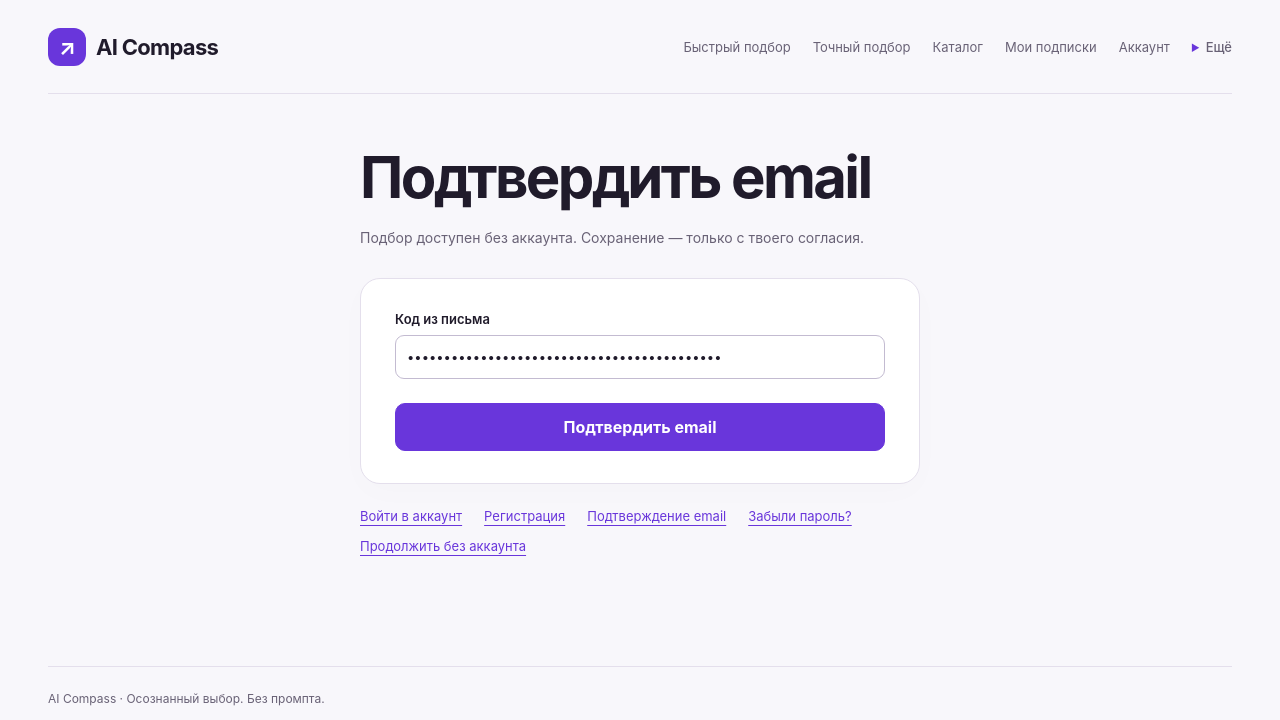
Scenario: verification token is removed from URL and never rendered as ordinary text
What coordinates should you click on to do the following:
click the button "Подтвердить email"
I would click on:
 (640, 427)
Its box is 395,403 -> 885,451.
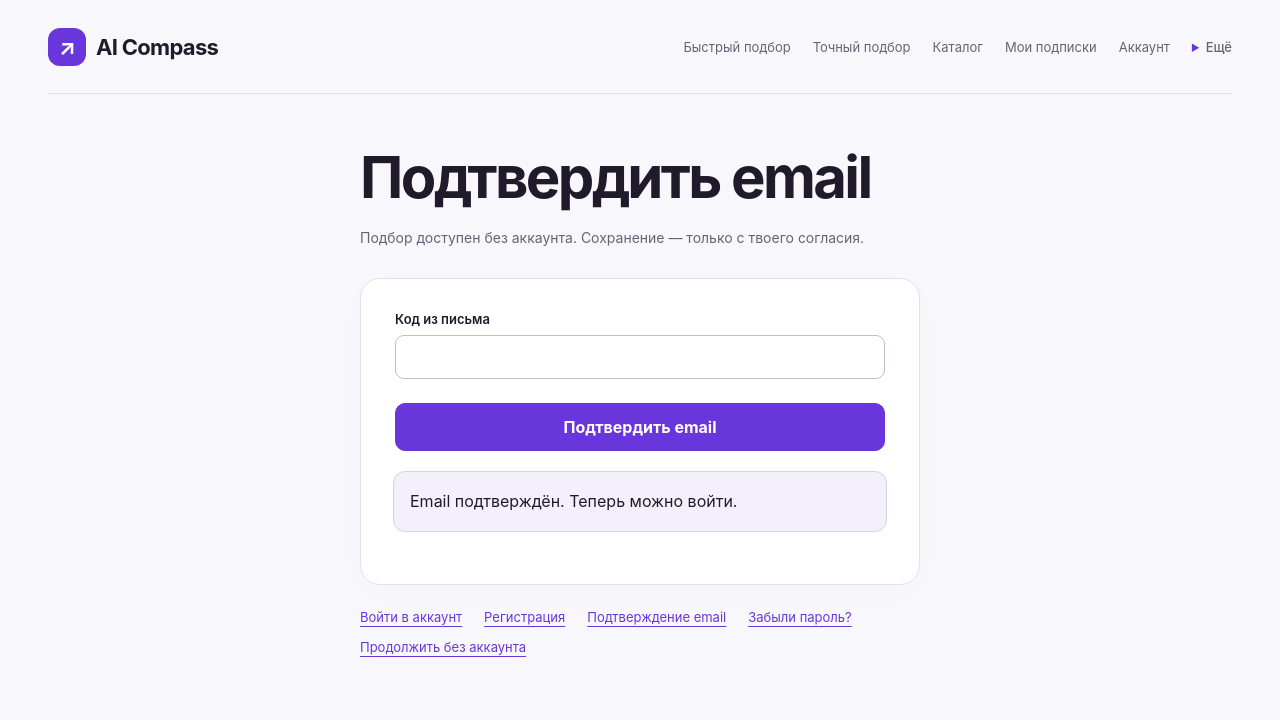
Result: the text "Email подтверждён. Теперь можно войти." is shown at 393,471 -> 887,532
